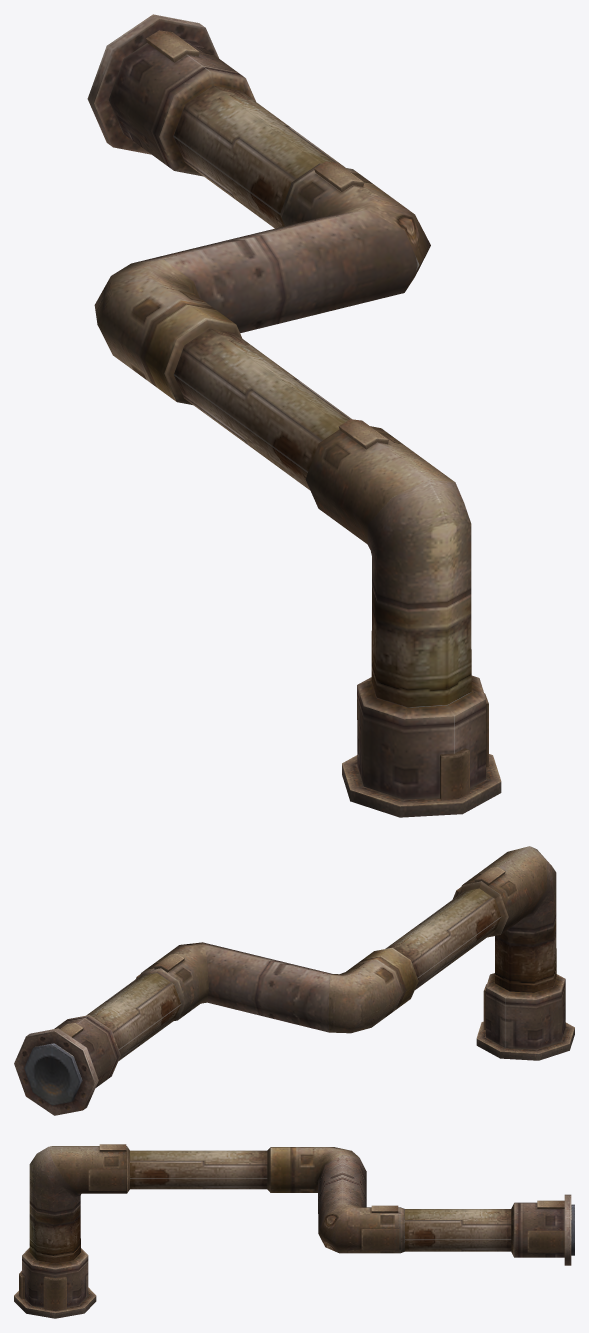
The model's file is yw_leinabao_guandao03.FBX.
3 views of the same model, one above another, from view 1: azimuth 30°, elevation 25°; view 2: azimuth 150°, elevation 25°; view 3: azimuth 270°, elevation 25° (orthographic). The views are drawn at different scales.
Visible parts, largest first — view 1: yw_leinabao_guandao03; view 2: yw_leinabao_guandao03; view 3: yw_leinabao_guandao03.
Boxes of the visible parts, x1,y1,x2,y2 form: yw_leinabao_guandao03: [87, 14, 501, 817]; yw_leinabao_guandao03: [14, 846, 574, 1115]; yw_leinabao_guandao03: [14, 1144, 574, 1318].
Bounding box in the file's own units: 813 × 670 × 2054.
